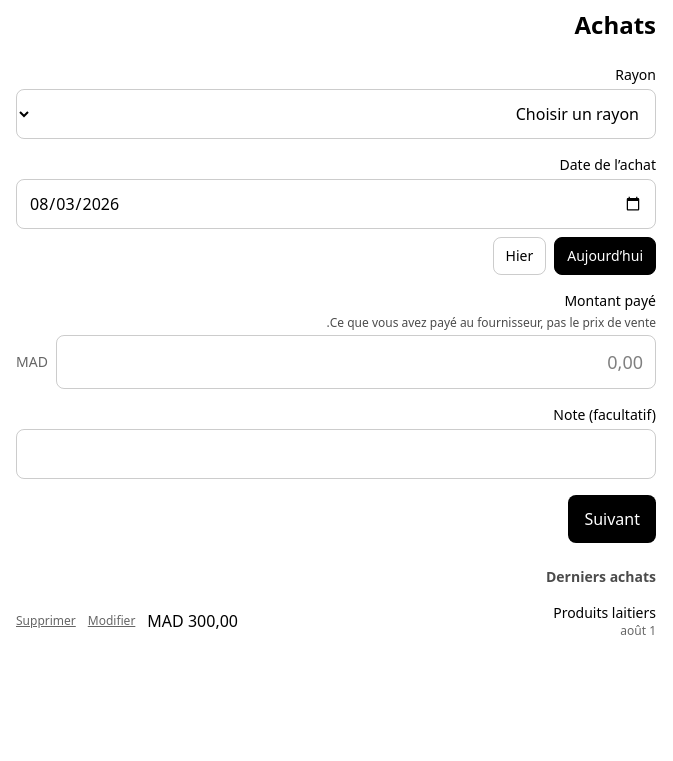
editing a purchase (domain-spec §8.5) › prefills the shelf answer instead of asking for it again
Click the button with aria-label "Modifier — Produits laitiers" at [112, 621], box top-left (88, 613), bottom-right (135, 629)
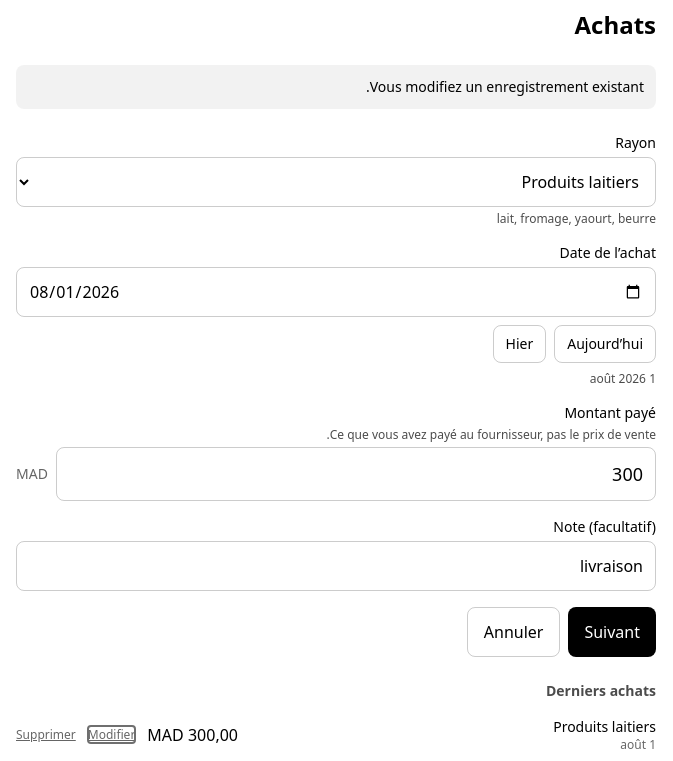
Click the button "Suivant" at [612, 632], box top-left (568, 607), bottom-right (656, 657)
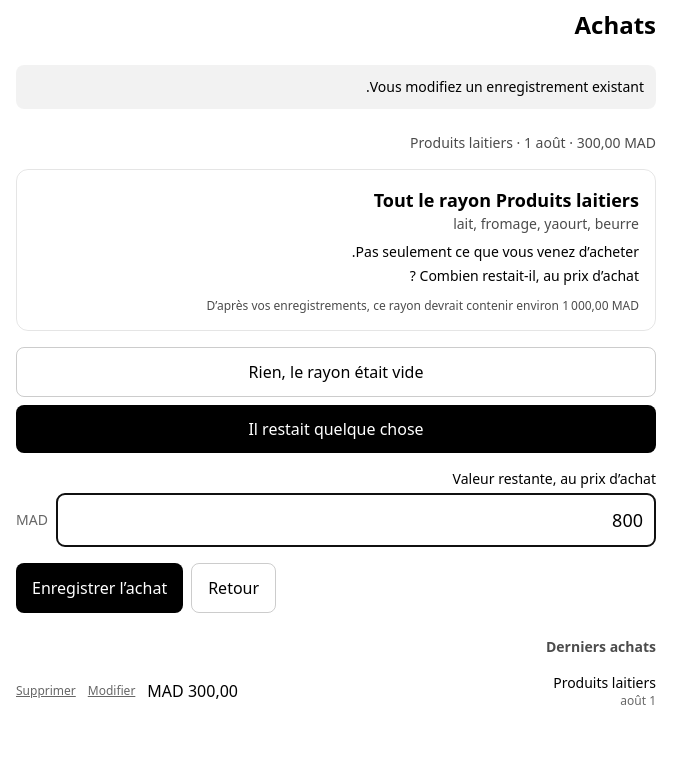
Check: the field labelled "Valeur restante, au prix d’achat" holds "800", box top-left (56, 493), bottom-right (656, 547)
